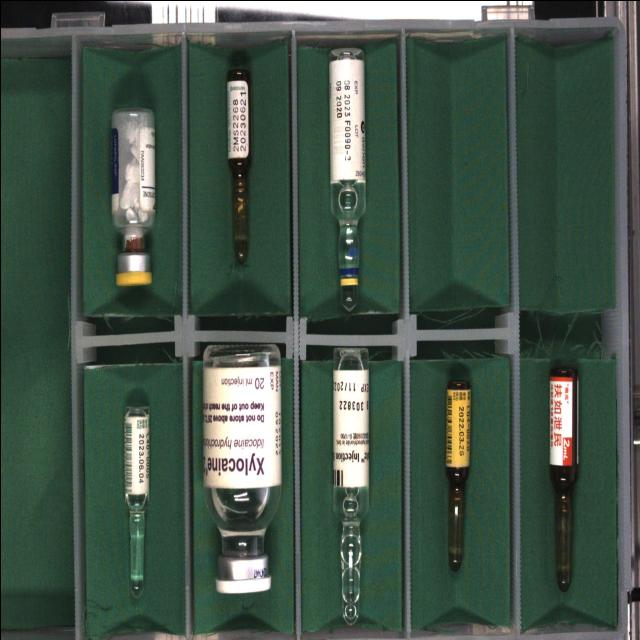Vials: (202, 344, 281, 593), (111, 108, 154, 285)
